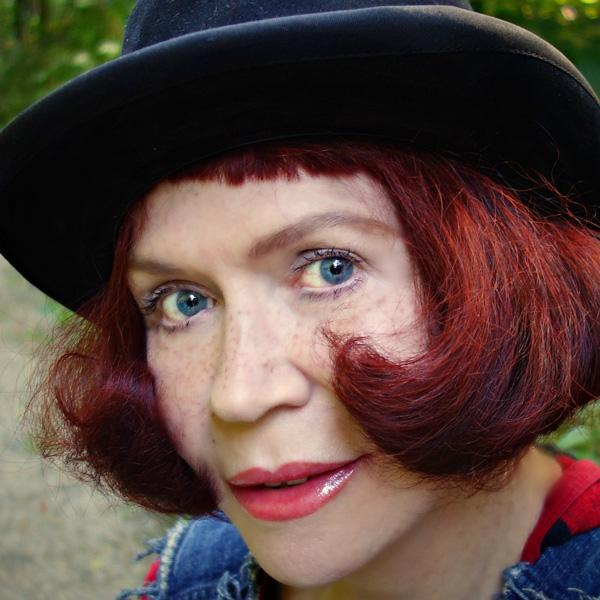Eyes: (274, 236, 377, 313), (144, 275, 226, 341)
